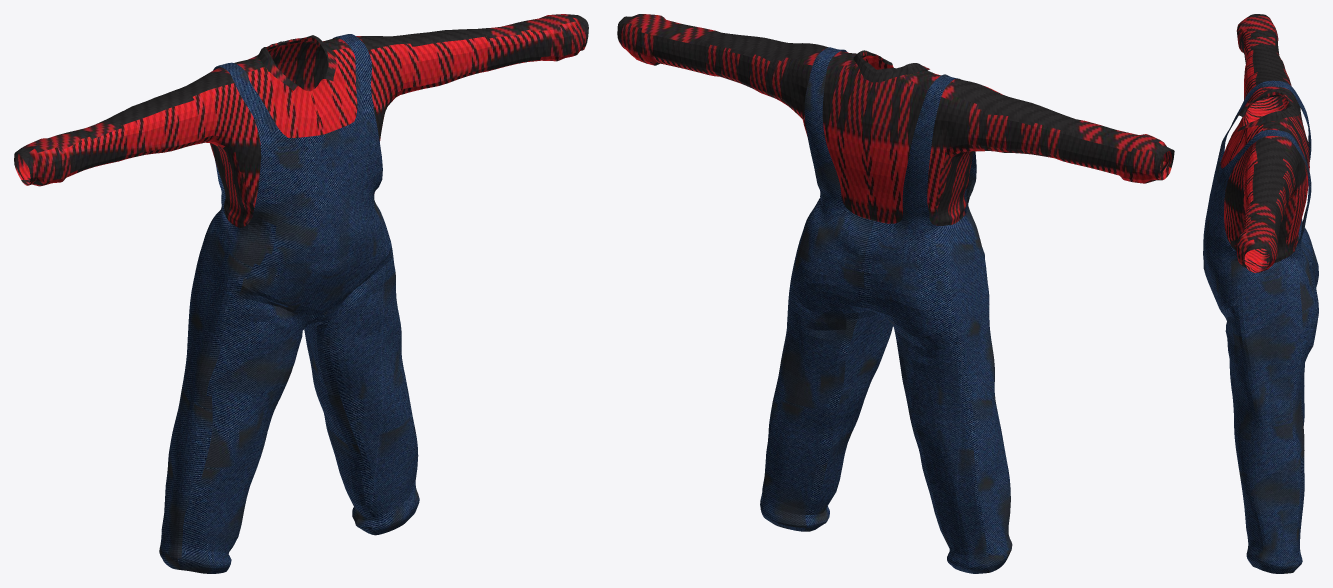
Rendered from Shirt02U.fbx.
3 renders of one model, left to right at view 1: azimuth 30°, elevation 25°; view 2: azimuth 150°, elevation 25°; view 3: azimuth 270°, elevation 25°, orthographic. The views are drawn at different scales.
Parts seen in each view (by area): view 1: Touser, Shirt; view 2: Touser, Shirt; view 3: Touser, Shirt.
Boxes of the visible parts, x1=… form: Touser: x1=159, y1=34, x2=419, y2=573; Shirt: x1=14, y1=14, x2=588, y2=227; Touser: x1=760, y1=47, x2=1012, y2=573; Shirt: x1=617, y1=14, x2=1174, y2=225; Touser: x1=1203, y1=80, x2=1318, y2=573; Shirt: x1=1220, y1=14, x2=1309, y2=272.
Bounding box in the file's own units: 191 × 163 × 39.8.
2 materials, 2 textured.
